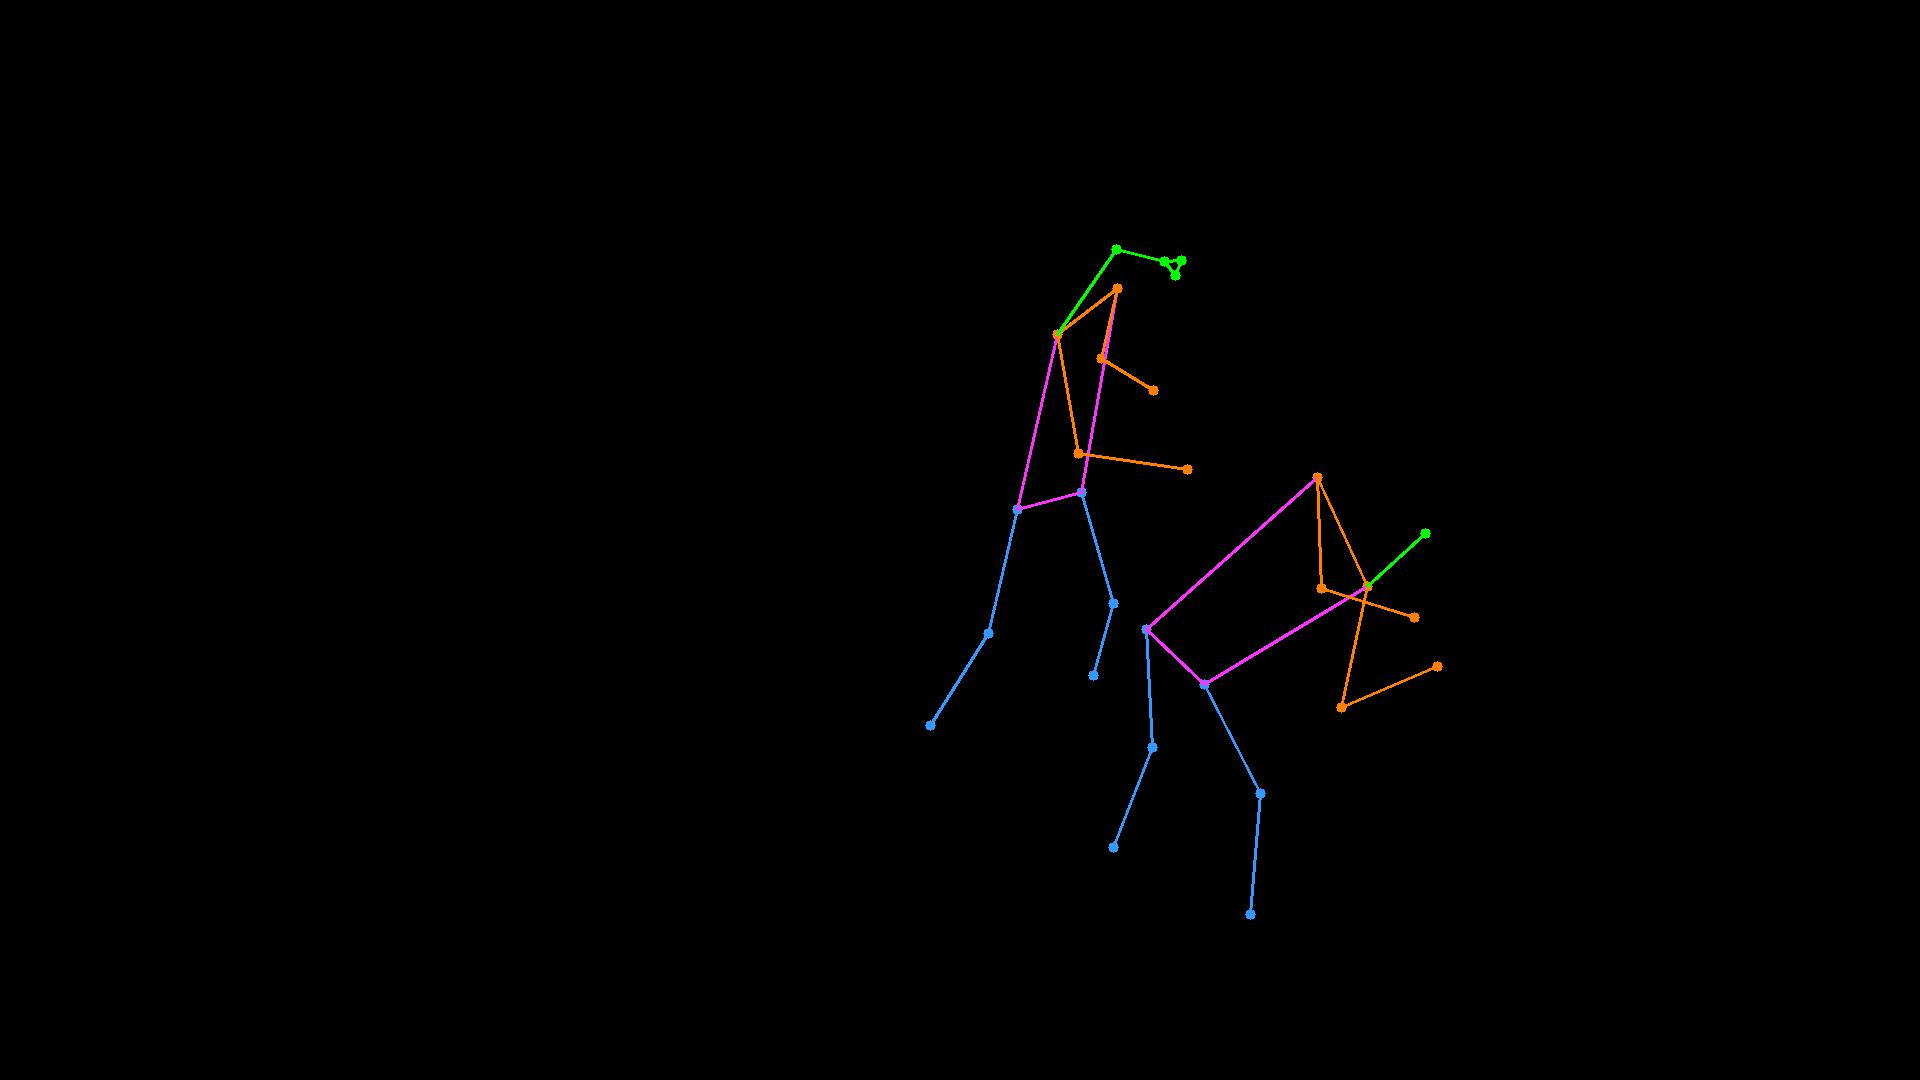normal: (873, 203, 1221, 758), (1088, 444, 1472, 943)
